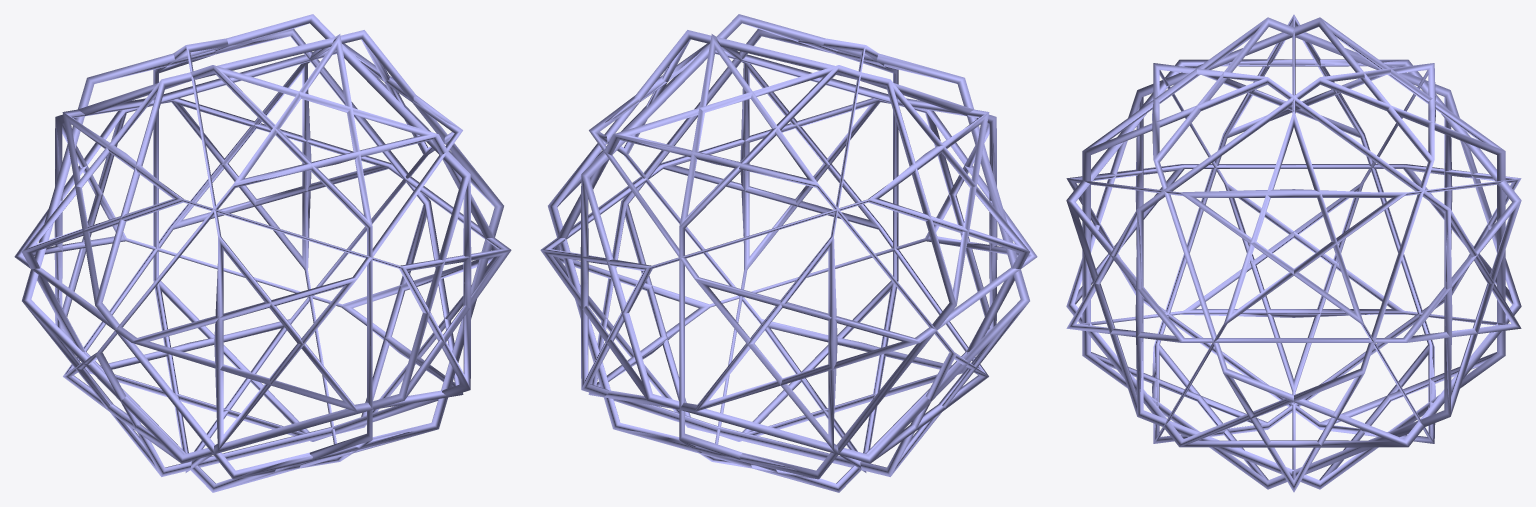
Rendered from TruncatedGreatIcosahedron1.glb.
3 renders of one model, left to right at view 1: azimuth 30°, elevation 25°; view 2: azimuth 150°, elevation 25°; view 3: azimuth 270°, elevation 25°, orthographic. The views are drawn at different scales.
Visible parts, largest first — view 1: TruncatedGreatIcosahedron; view 2: TruncatedGreatIcosahedron; view 3: TruncatedGreatIcosahedron.
Boxes of the visible parts, x1,y1,x2,y2 form: TruncatedGreatIcosahedron: (14,14,511,492); TruncatedGreatIcosahedron: (540,14,1037,492); TruncatedGreatIcosahedron: (1066,14,1521,492).
Size of the model in its own units: 2.04 by 2.04 by 2.04.
